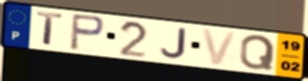2: (117, 20, 152, 58)
J: (159, 27, 188, 60)
P: (68, 12, 107, 52)
Q: (238, 34, 277, 71)
T: (35, 10, 65, 48)
V: (200, 28, 239, 67)
